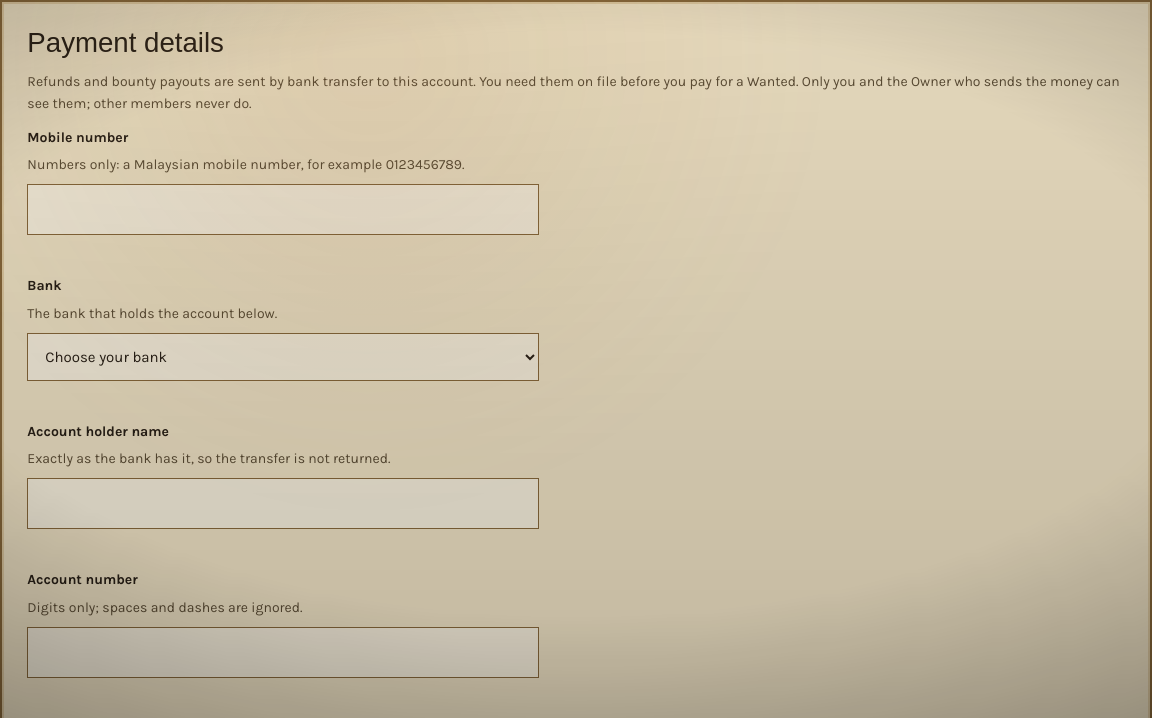
Test: PaymentDetailsForm › keeps only digits when text is typed or pasted into the account number
Type "1234-56 78ab90" into the field labelled "Account number".
click(283, 652); type("1234-56 78ab90")  # box [27,626,539,678]
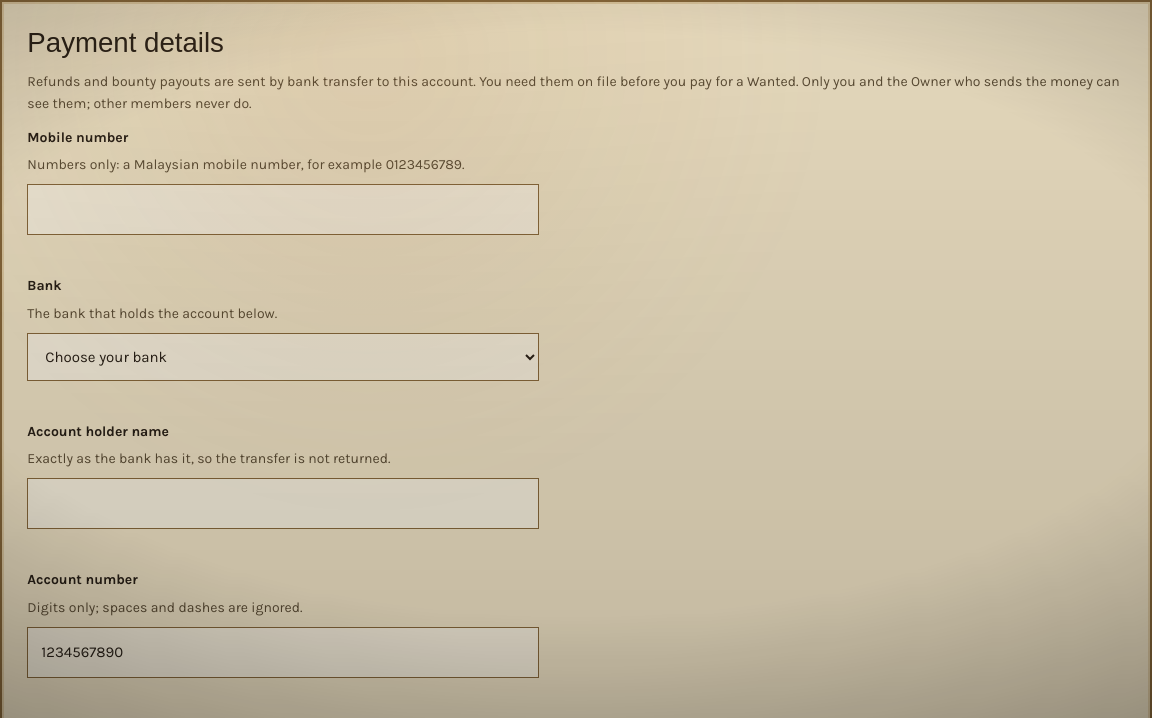
Check: the field labelled "Account number" holds "1234567890", box [27,626,539,678]
